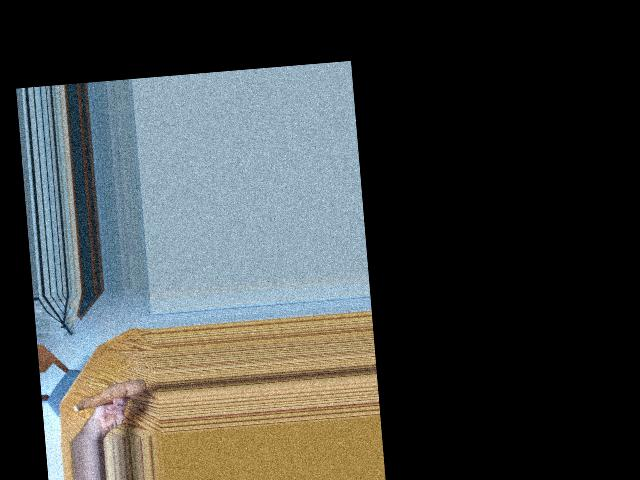sweet_potato: (72, 375, 146, 416)
